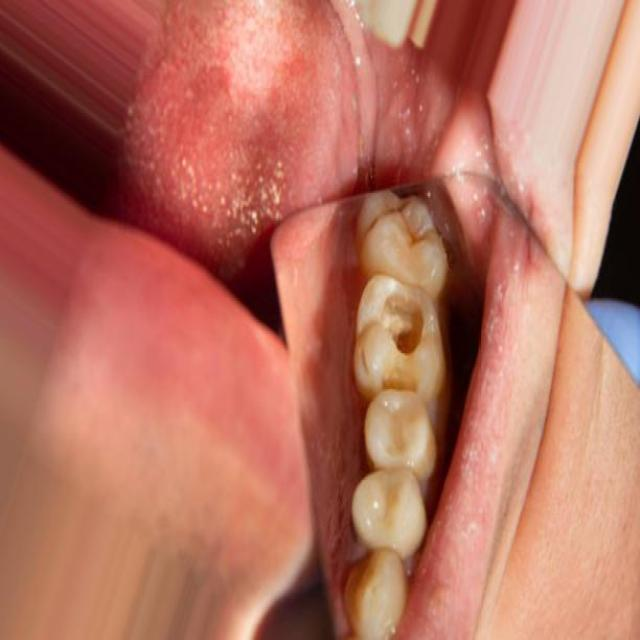caries: (352, 271, 439, 404)
